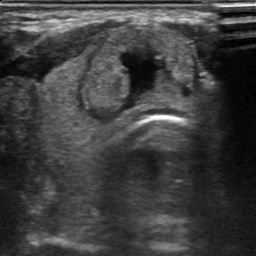mass: (78, 25, 210, 120)
